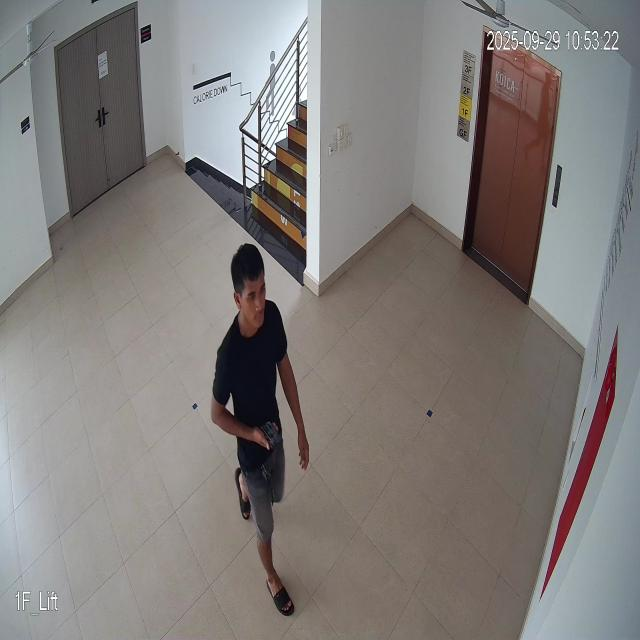face: (229, 238, 271, 337)
